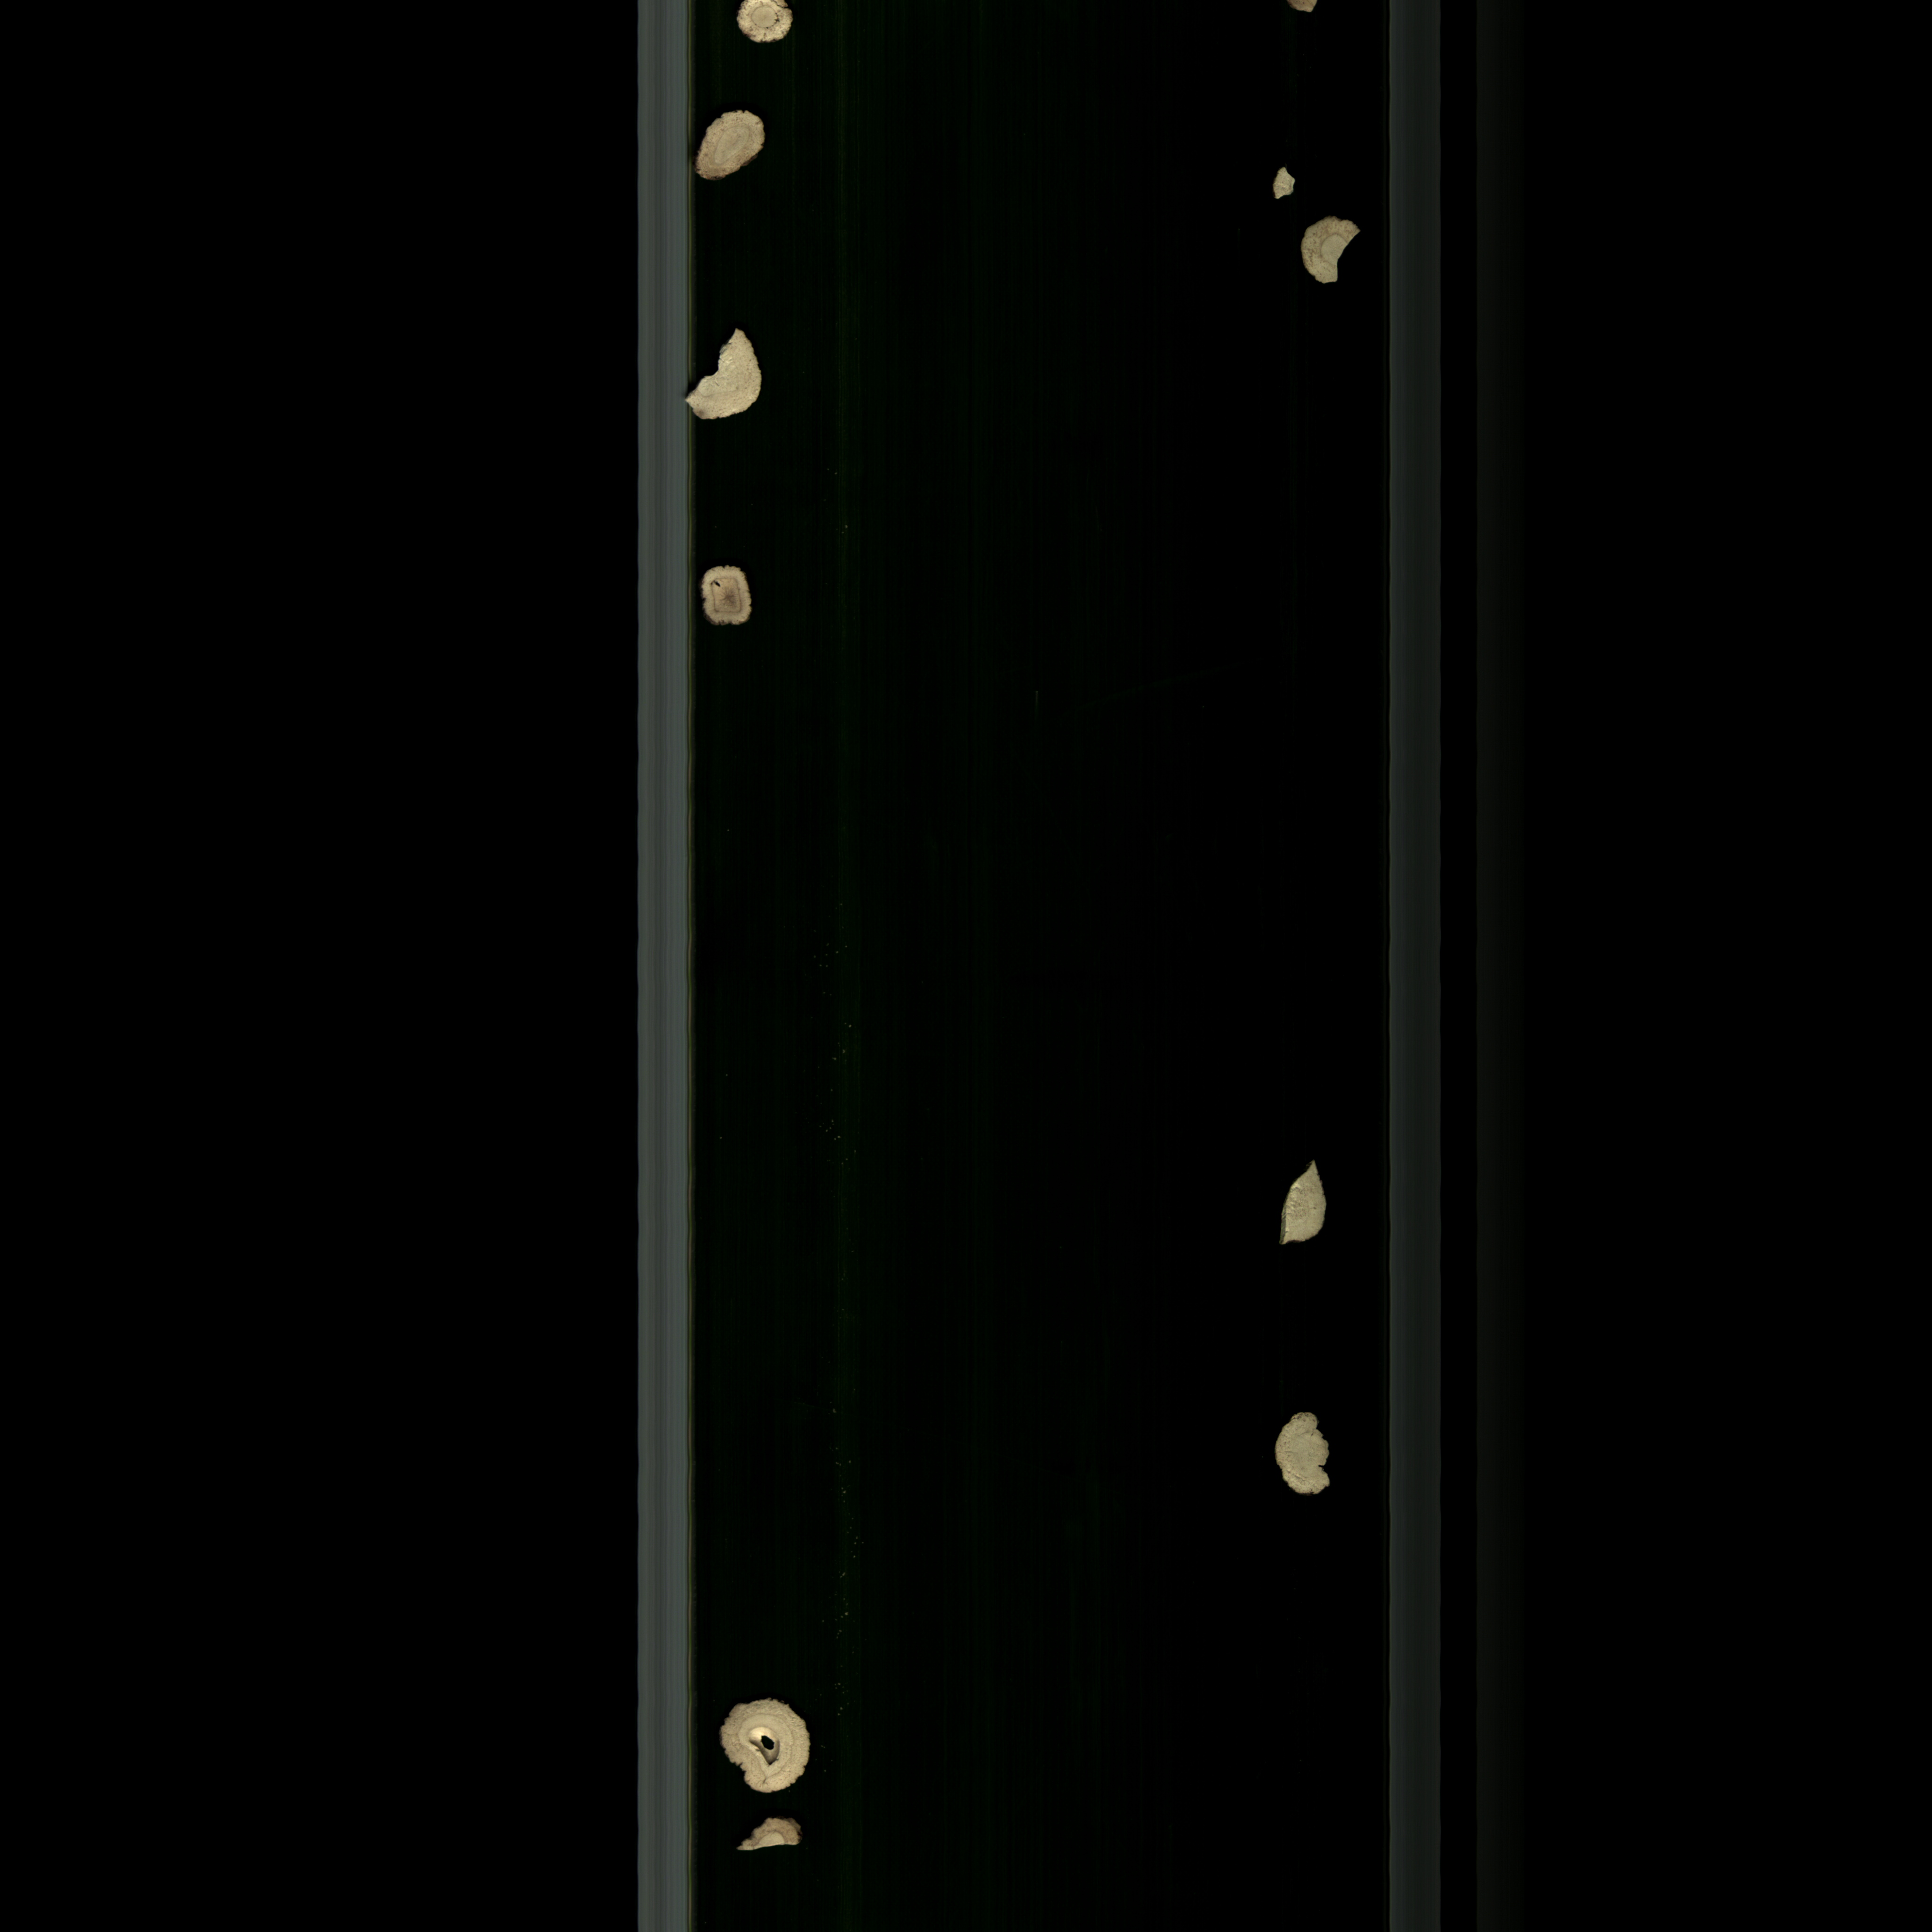debris: (676, 327, 773, 435), (1267, 1154, 1341, 1256), (1265, 1410, 1339, 1507), (1295, 218, 1368, 290)
dreg: (729, 1813, 821, 1863), (1267, 161, 1304, 205)
hole: (706, 1693, 823, 1799)
moldy: (692, 103, 777, 189), (692, 564, 759, 633), (722, 2, 796, 42)
